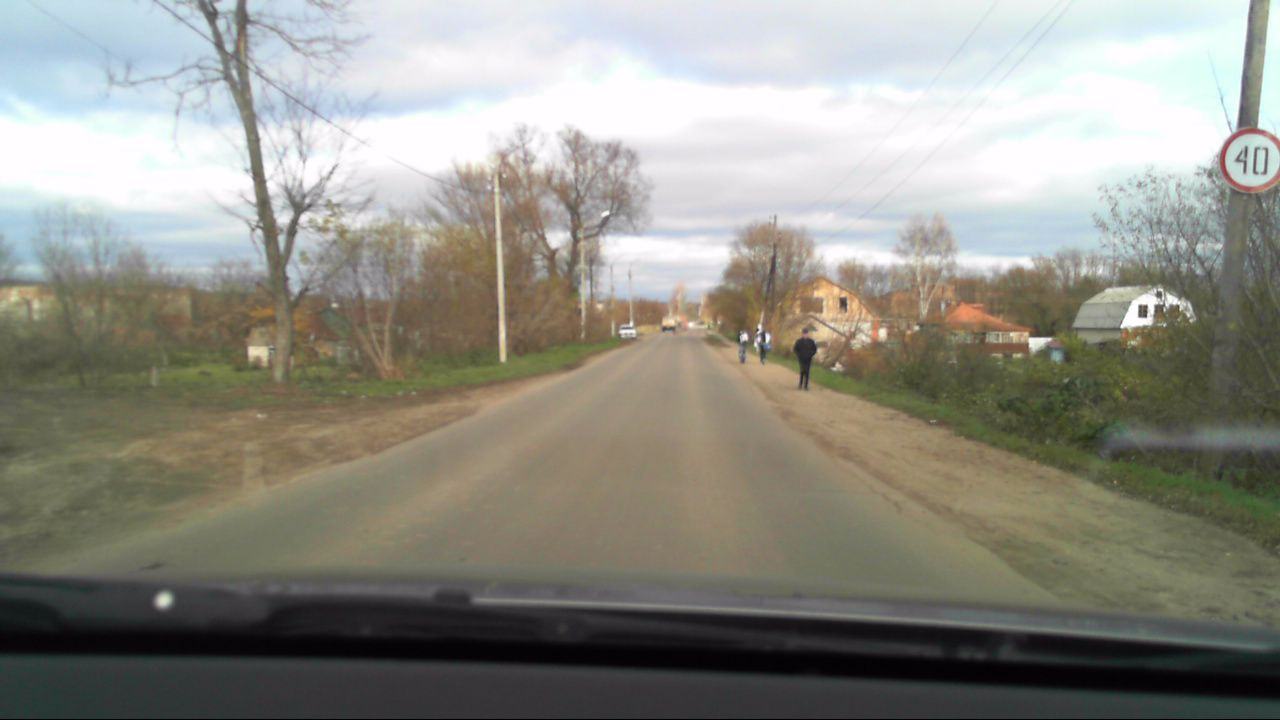speed_warning_40: (1217, 124, 1279, 193)
